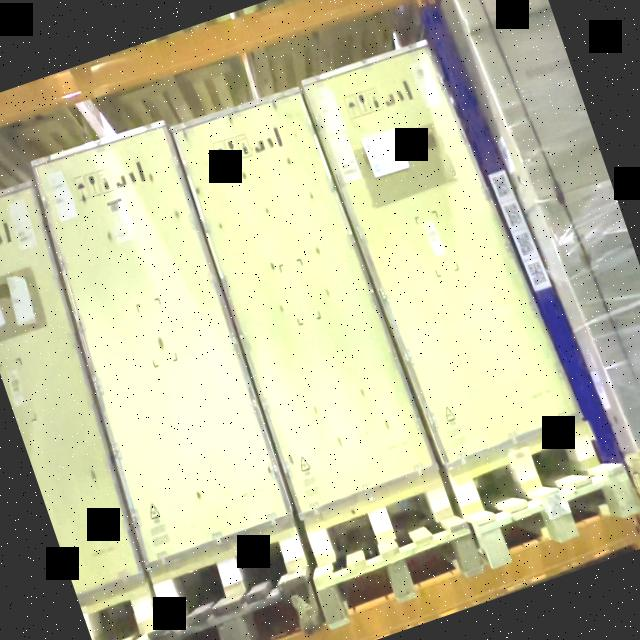box: (31, 120, 294, 568), (305, 37, 579, 462), (171, 86, 436, 518)
